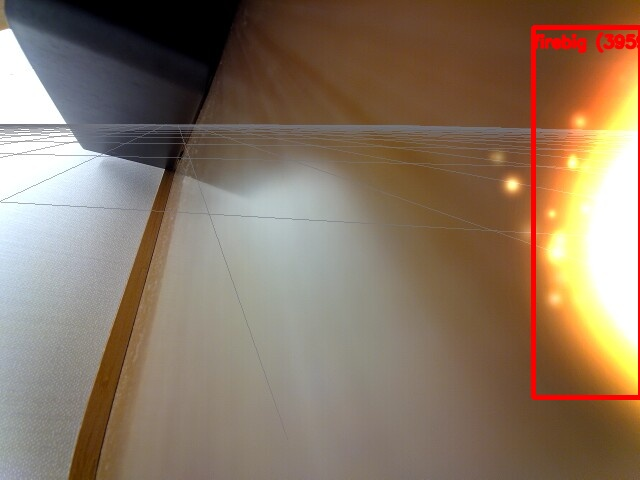firebig: (533, 27, 640, 397)
